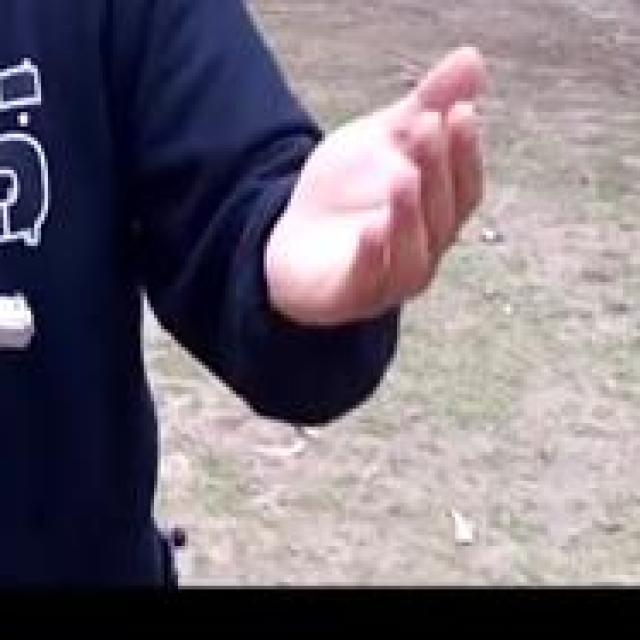Guns: (0, 260, 41, 434)
